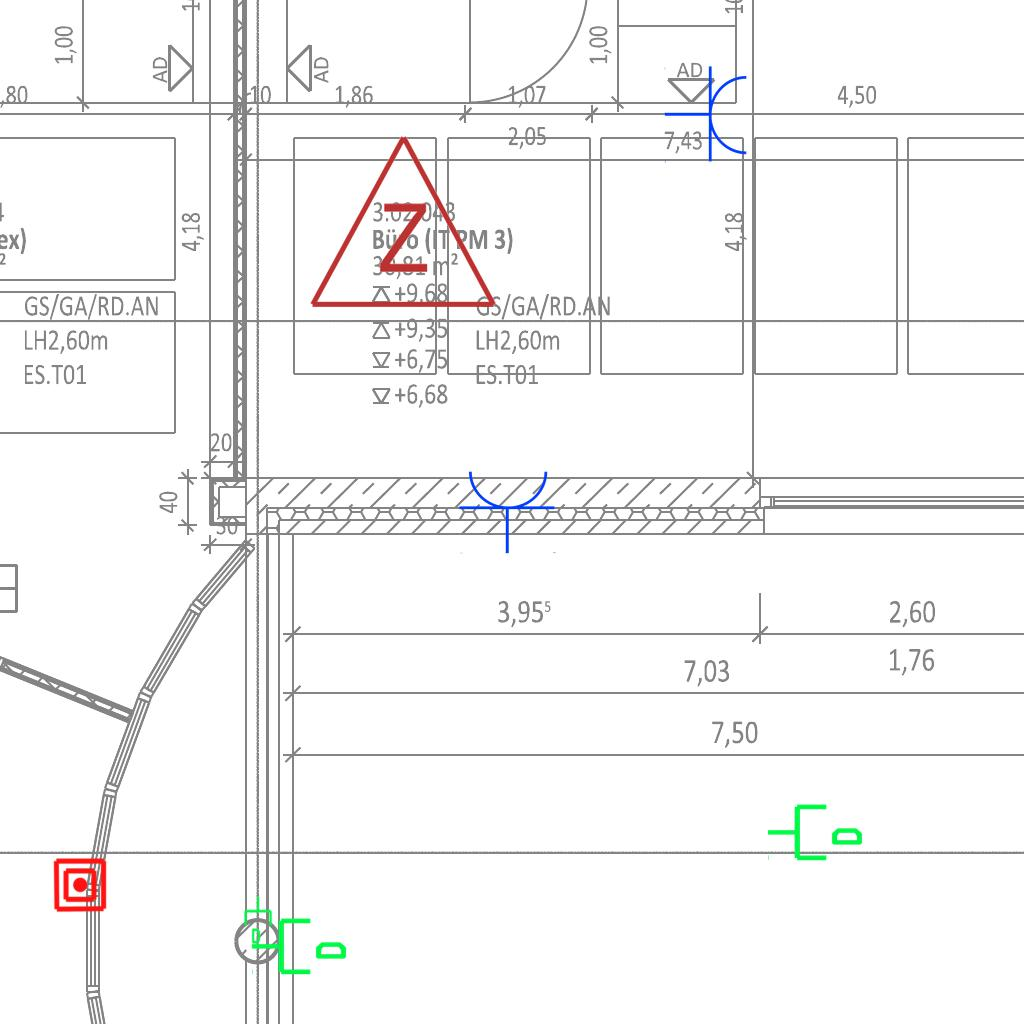Datenanschluss_einfach: (765, 796, 865, 865), (249, 910, 349, 979), (242, 895, 276, 945)
NAM-Nichtautomatischer_Melder: (52, 857, 108, 913)
Schukosteckdose_einfach: (458, 467, 558, 554), (664, 65, 751, 165)
Zimmersignalleuchte: (303, 122, 499, 322)
